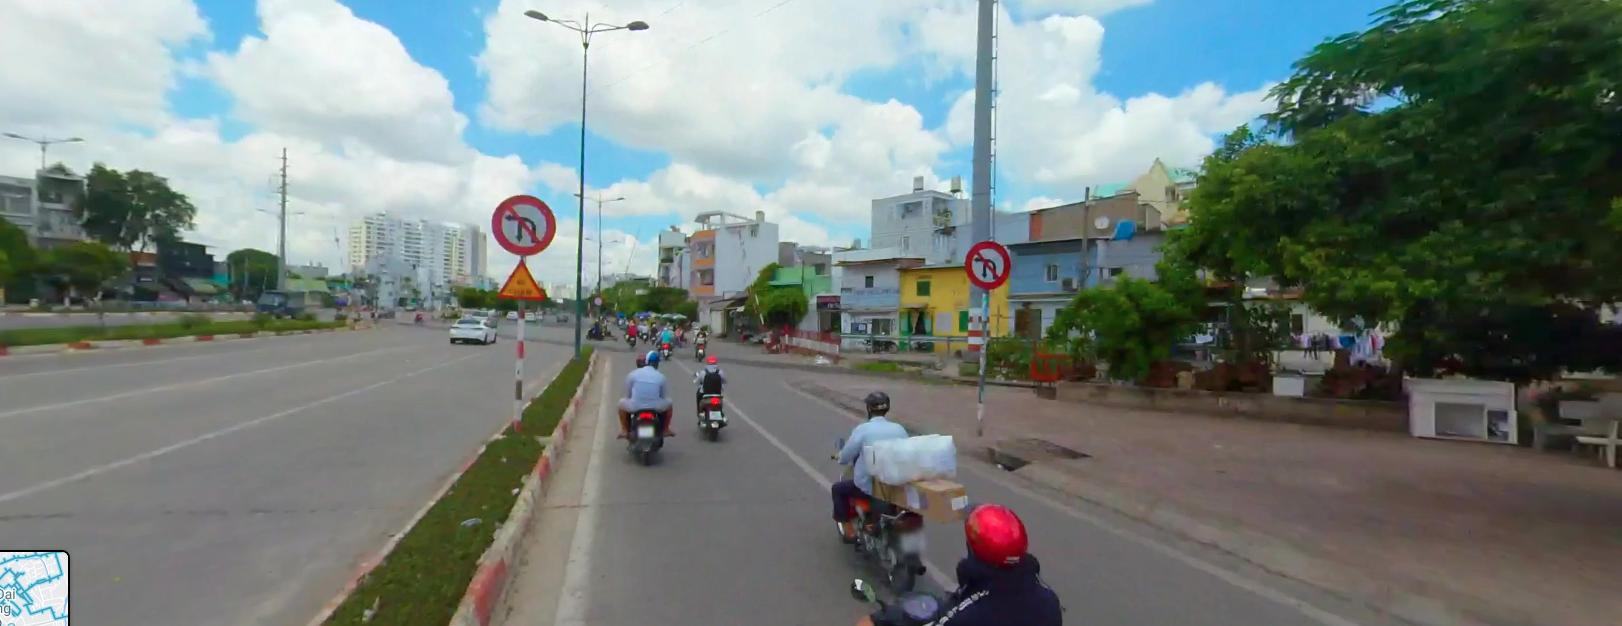Cam re: (489, 192, 555, 254), (962, 237, 1013, 288)
Nguy hiem: (495, 255, 545, 302)
